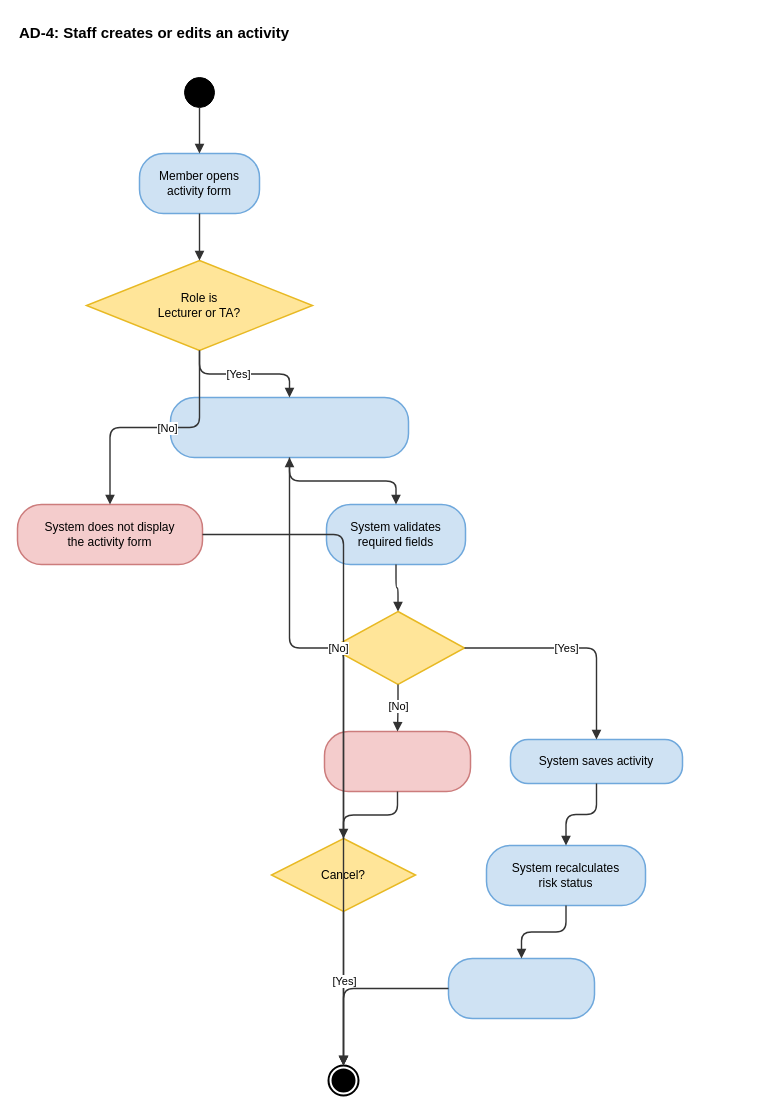
Image size: 760x1113. Some labels were removed from this diagram. The shapes that lost their labels are listed below. From the top down, each one's box as (x1, y1, x2, y2) in pixels, then its label:
(169, 396, 409, 458): Staff enters title, type, due date, visibility, owner, status
(330, 610, 465, 685): Valid?
(323, 730, 471, 792): System displays validation errors
(447, 957, 595, 1019): System shows save confirmation
